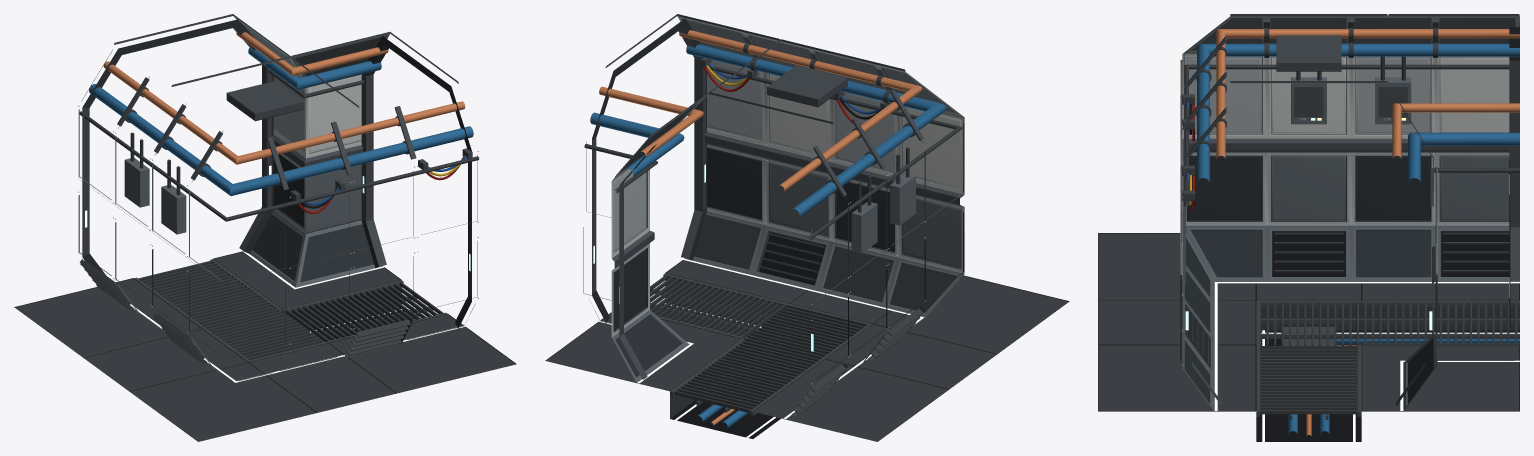
The model's file is corridor_corner.glb.
3 views of the same model, side by side, from view 1: azimuth 30°, elevation 25°; view 2: azimuth 150°, elevation 25°; view 3: azimuth 270°, elevation 25° (orthographic). The views are drawn at different scales.
Parts seen in each view (by area): view 1: corridor_corner_body, corridor_corner_detail, corridor_corner_pipes, corridor_corner_decal; view 2: corridor_corner_body, corridor_corner_detail, corridor_corner_pipes, corridor_corner_decal; view 3: corridor_corner_body, corridor_corner_detail, corridor_corner_pipes, corridor_corner_decal.
Part boxes in pixels (x1=…): corridor_corner_body: x1=14, y1=14, x2=516, y2=441; corridor_corner_detail: x1=78, y1=77, x2=478, y2=361; corridor_corner_pipes: x1=79, y1=32, x2=479, y2=342; corridor_corner_decal: x1=85, y1=165, x2=470, y2=382; corridor_corner_body: x1=545, y1=14, x2=1069, y2=441; corridor_corner_detail: x1=650, y1=35, x2=925, y2=416; corridor_corner_pipes: x1=584, y1=30, x2=962, y2=428; corridor_corner_decal: x1=593, y1=164, x2=923, y2=437; corridor_corner_body: x1=1098, y1=14, x2=1519, y2=441; corridor_corner_detail: x1=1182, y1=20, x2=1519, y2=419; corridor_corner_pipes: x1=1184, y1=29, x2=1519, y2=436; corridor_corner_decal: x1=1185, y1=118, x2=1519, y2=441.
Bounding box in the file's own units: 4 × 3.2 × 4.
